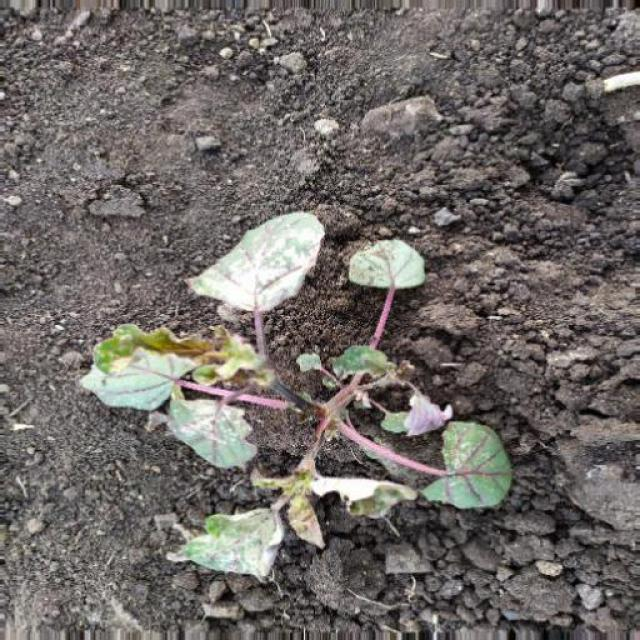weed: (69, 207, 509, 640)
